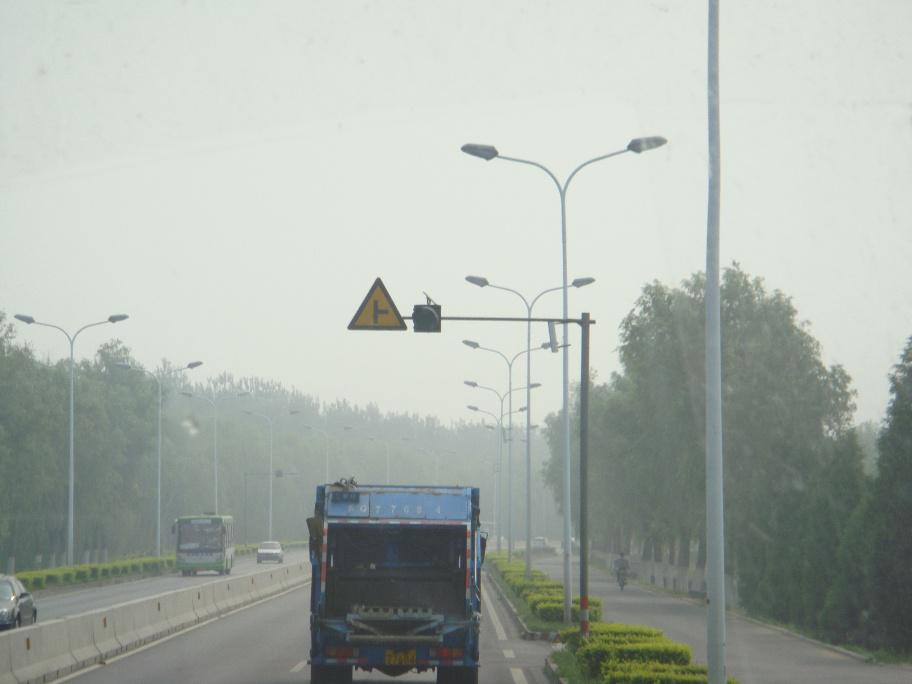Warning Signs: (346, 275, 408, 337)
